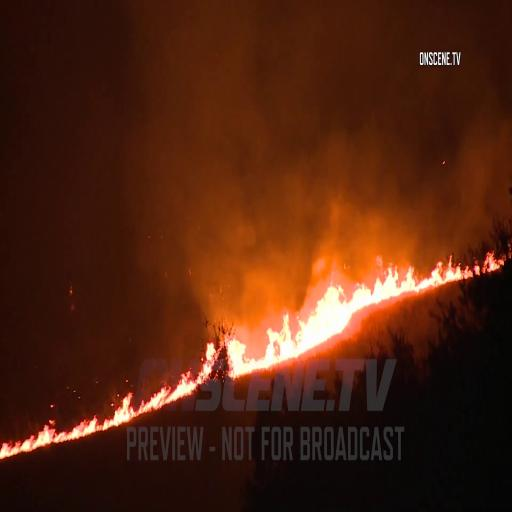fire: (0, 380, 166, 466), (226, 282, 348, 369), (342, 256, 412, 306)
